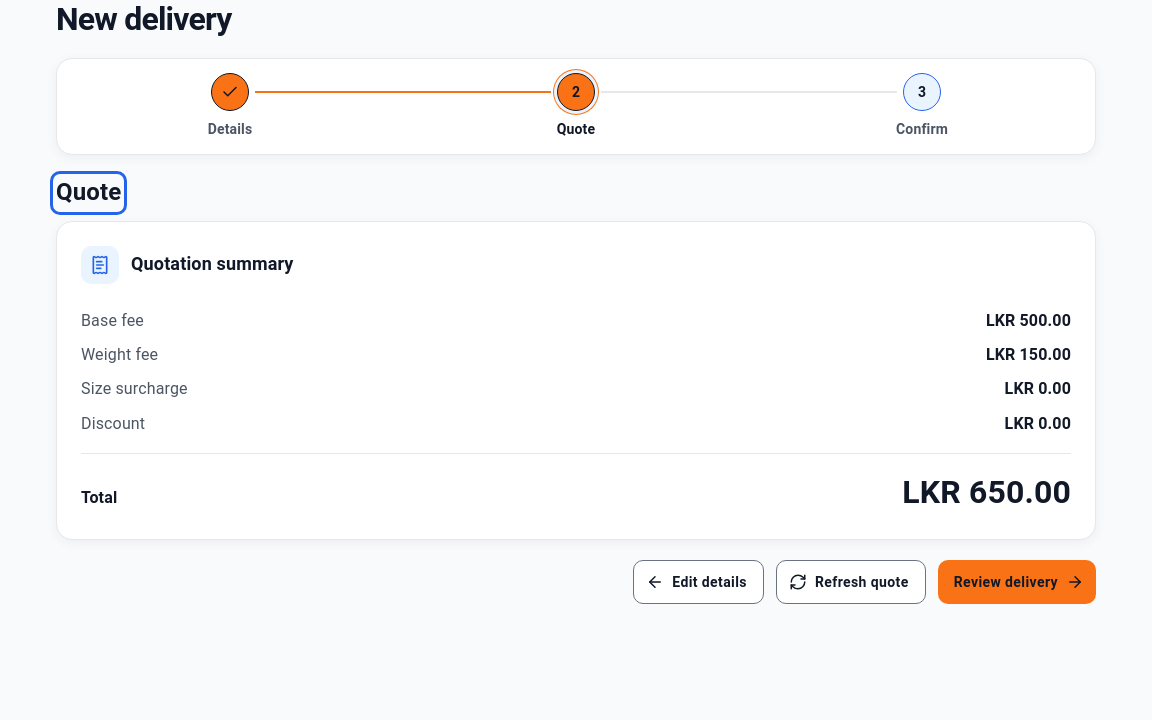
Test: TST-040 create parcel wizard › preserves fields on back navigation and requires a new quote after editing
This screenshot has width=1152, height=720.
Earlier steps of the test are not shown.
Later steps or results of the test are not shown.
Check: the heading "Quote" is shown, box [56, 177, 121, 209]
Check: the button "Review delivery" is enabled, box [938, 560, 1096, 604]
Click the button "Edit details": (699, 582) [633, 560, 764, 604]
(page scrolled)
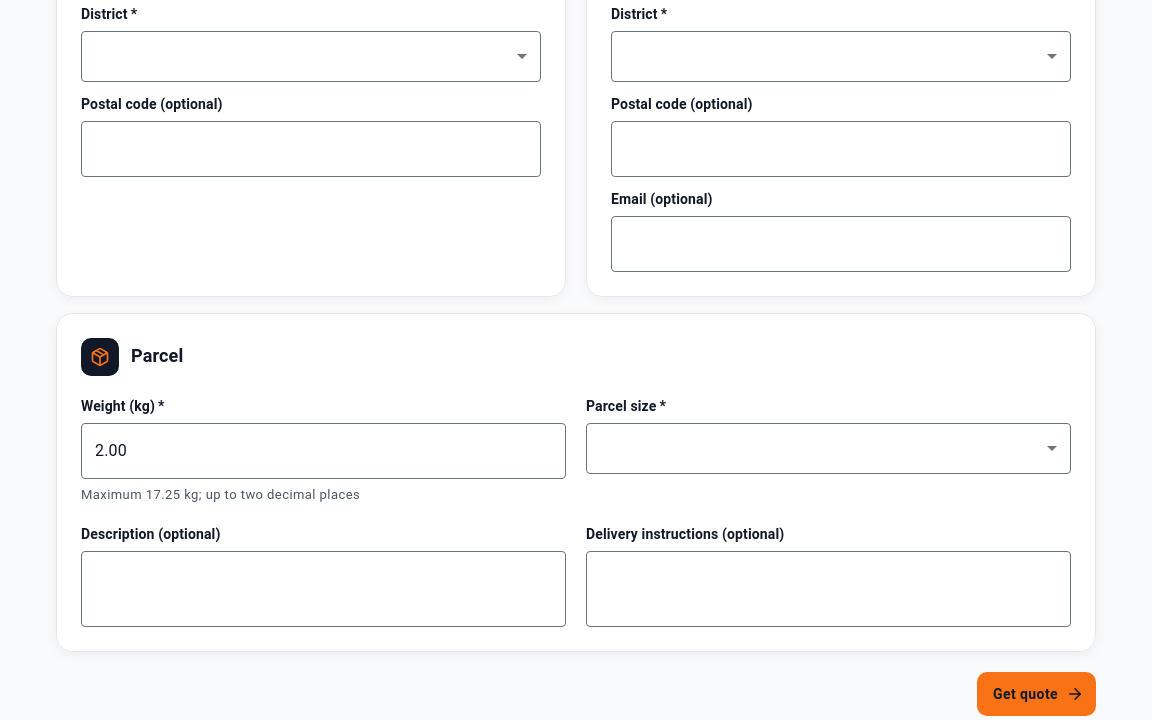
Check: the field labelled "Weight (kg) *" holds "2.00"
Replace the text in the field labelled "Weight (kg) *" with "3.00": (324, 451) [81, 423, 566, 479]
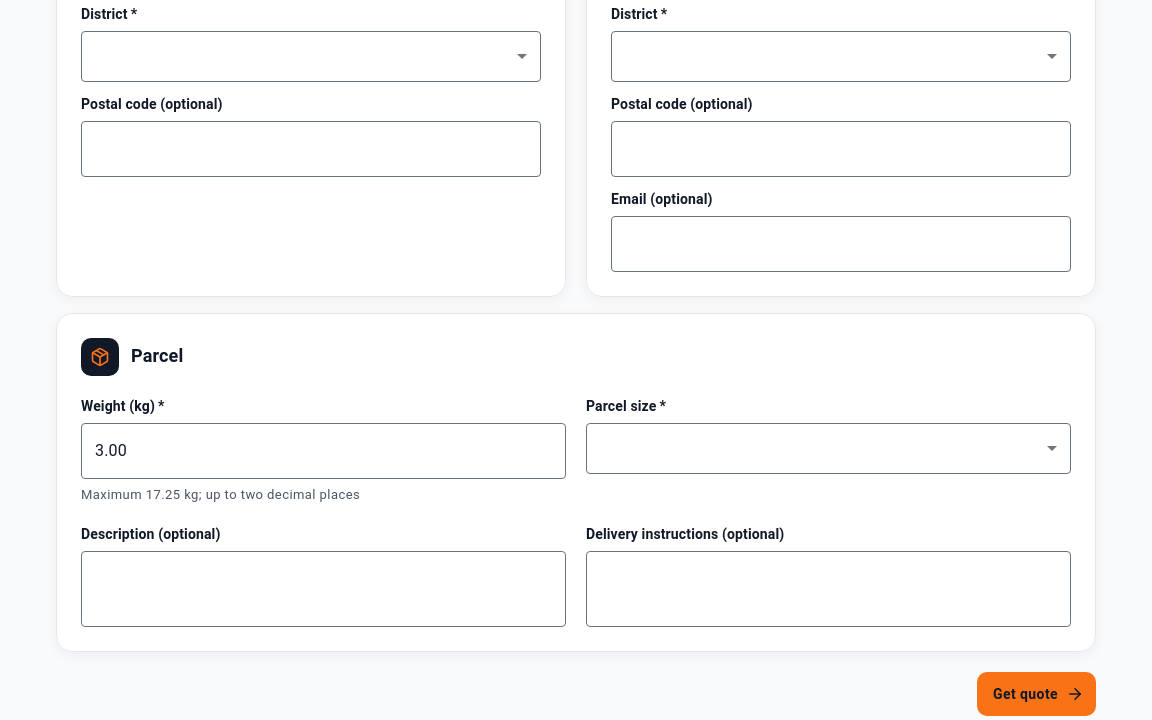
Click the button "Get quote": (1037, 694) [977, 672, 1096, 716]
(page scrolled)
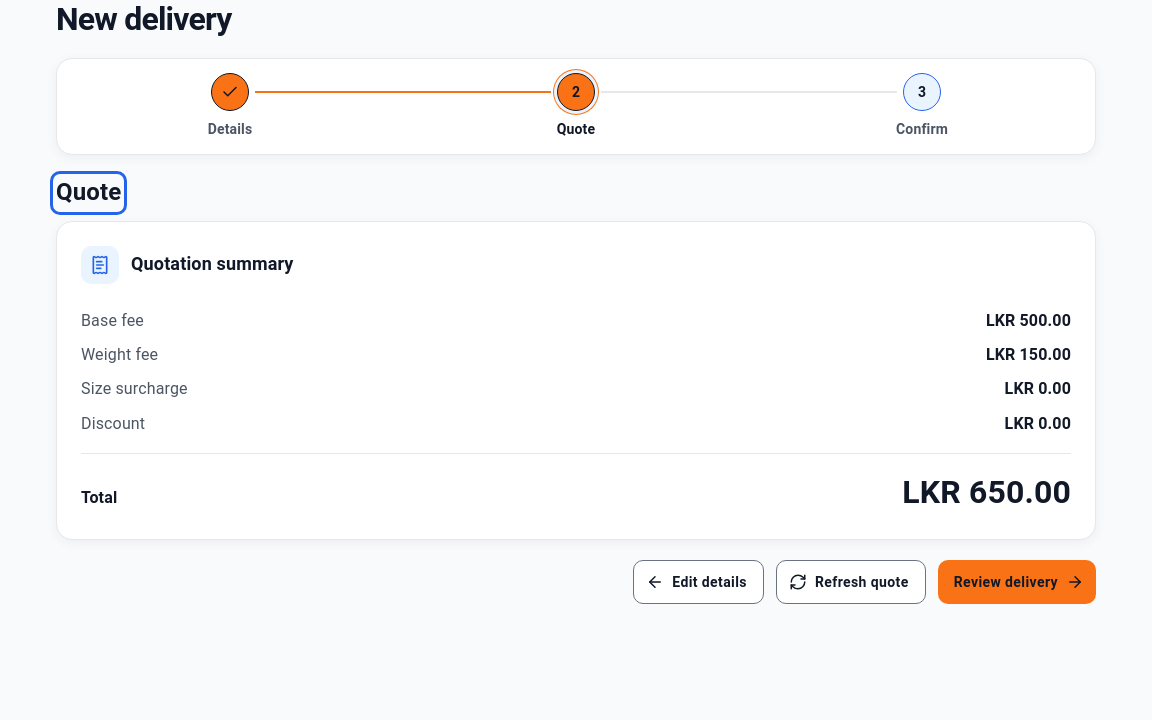
Check: the heading "Quote" is shown, box [56, 177, 121, 209]
